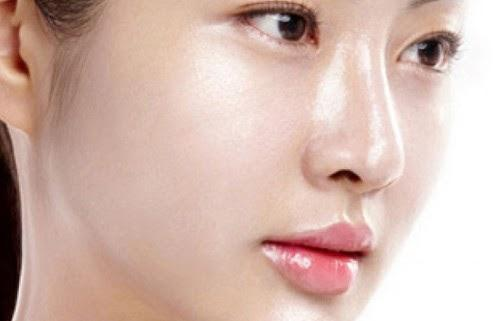Oily-Skin: (188, 31, 252, 133), (356, 35, 386, 171), (310, 38, 351, 135), (362, 193, 386, 231)
